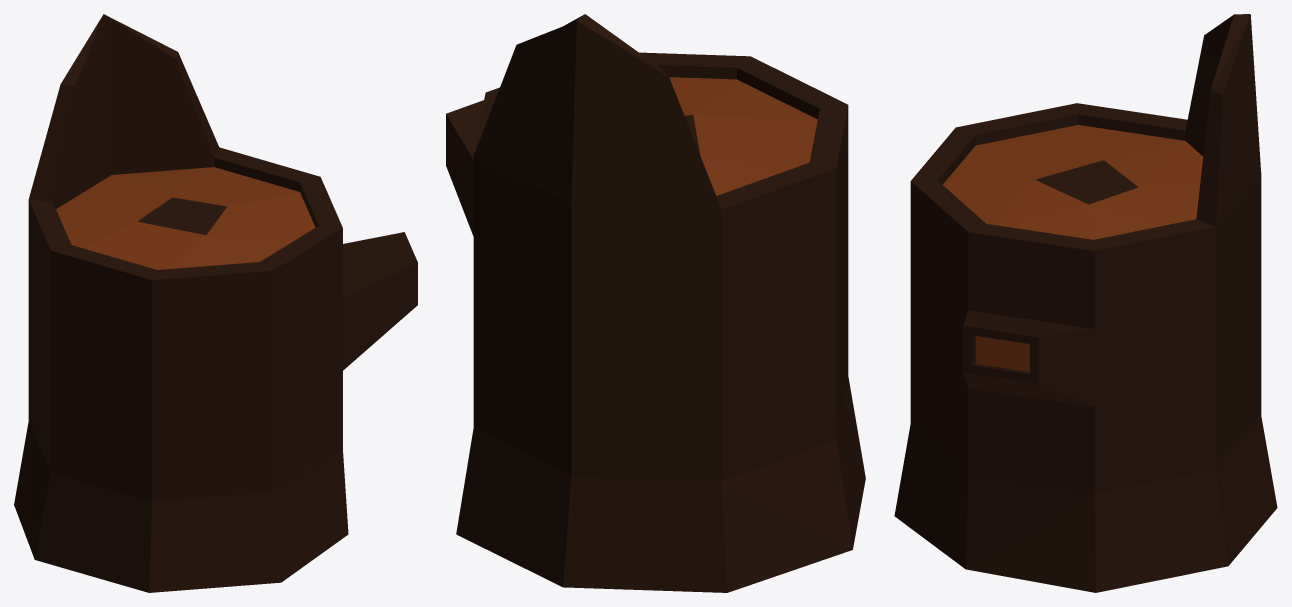
The model's file is stump.obj.
3 renders of one model, left to right at view 1: azimuth 30°, elevation 25°; view 2: azimuth 150°, elevation 25°; view 3: azimuth 270°, elevation 25°, orthographic. The views are drawn at different scales.
Parts seen in each view (by area): view 1: Stump1; view 2: Stump1; view 3: Stump1.
Part boxes in pixels (x1=…): Stump1: x1=14, y1=14, x2=417, y2=592; Stump1: x1=446, y1=14, x2=865, y2=592; Stump1: x1=894, y1=14, x2=1277, y2=592.
Size of the model in its own units: 2.33 by 2.88 by 2.02.
